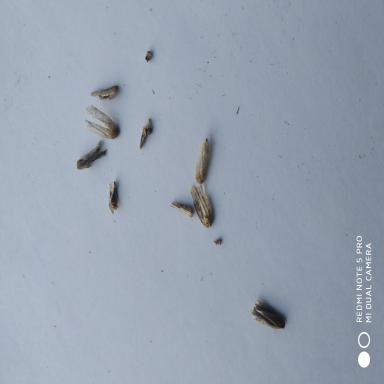pbw: (71, 138, 116, 172), (83, 102, 121, 140), (250, 295, 288, 332), (187, 185, 214, 231), (192, 136, 214, 184), (90, 82, 120, 100), (168, 200, 194, 219)
